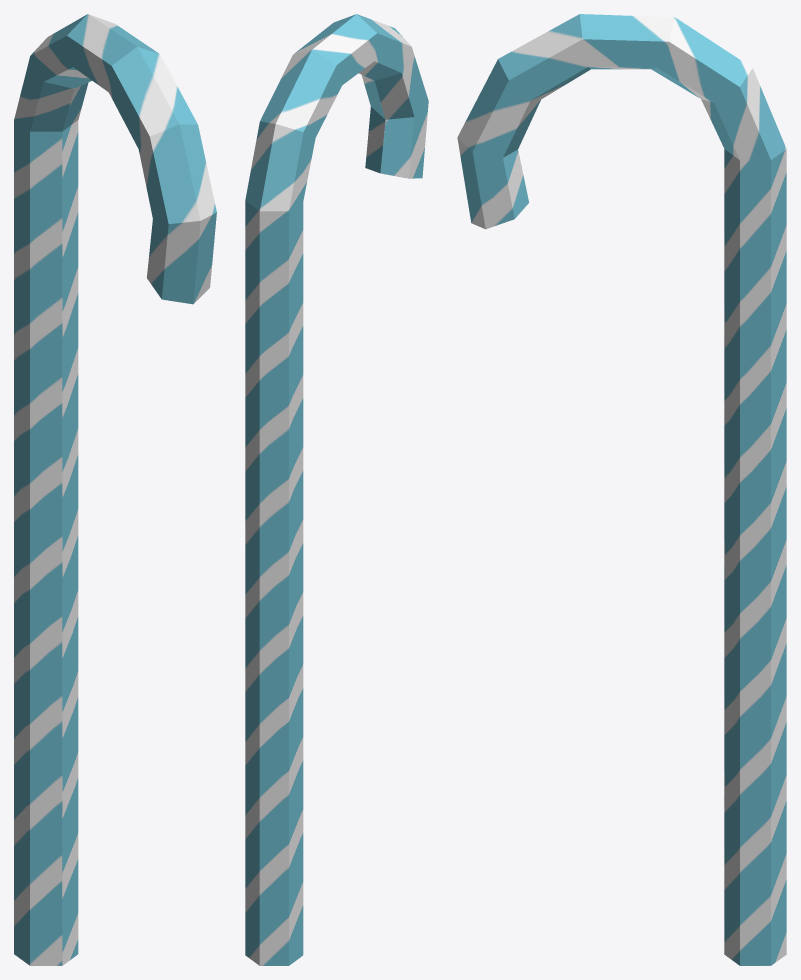
Rendered from LaskaZolta.fbx.
The picture shows the model from 3 angles, left to right: view 1: azimuth 30°, elevation 25°; view 2: azimuth 150°, elevation 25°; view 3: azimuth 270°, elevation 25°; orthographic projection. The views are drawn at different scales.
Visible parts, largest first — view 1: LaskaZolta; view 2: LaskaZolta; view 3: LaskaZolta.
Boxes of the visible parts, x1,y1,x2,y2 form: LaskaZolta: [14, 14, 216, 965]; LaskaZolta: [245, 14, 428, 965]; LaskaZolta: [457, 14, 786, 965].
Bounding box in the file's own units: 26.84 × 517 × 164.
1 material, 1 textured.
